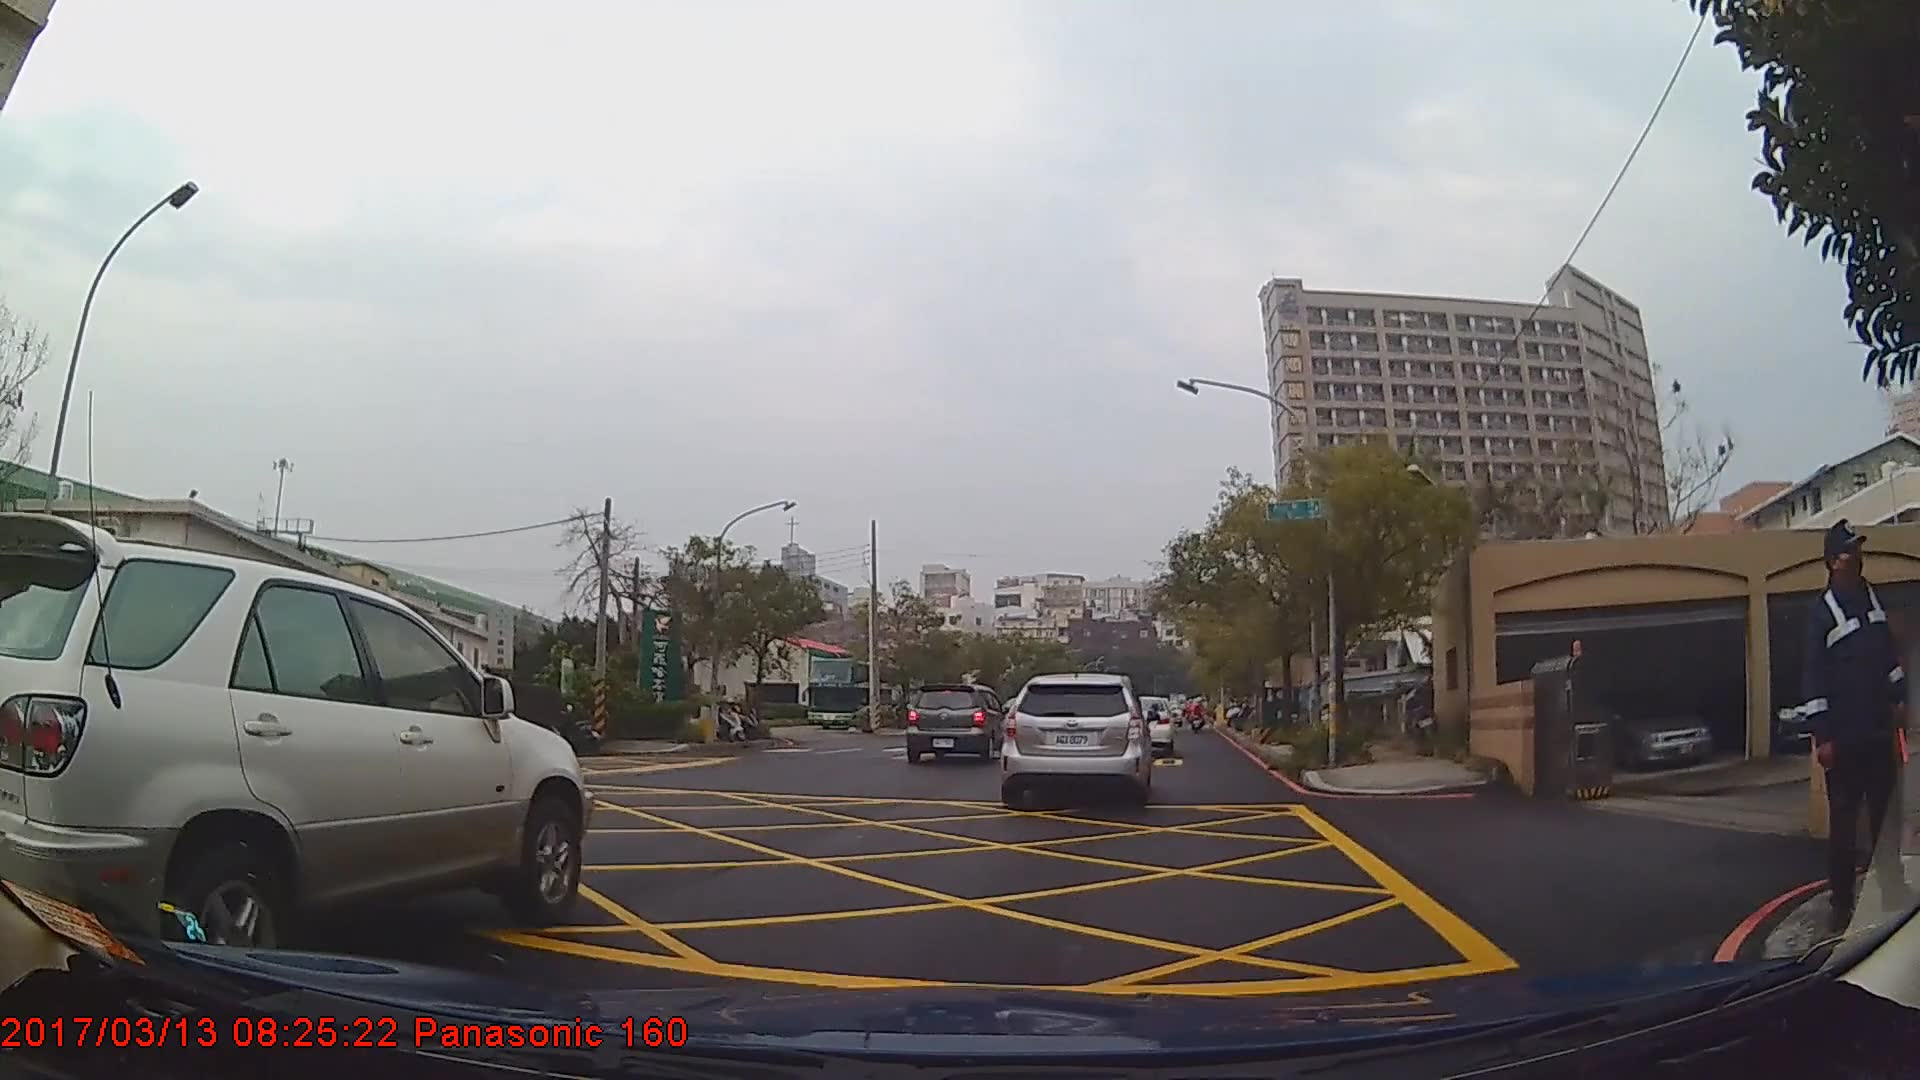pedestrian: (1798, 518, 1920, 937)
vehicle: (0, 509, 590, 987), (997, 670, 1153, 807), (1599, 684, 1720, 765), (904, 680, 1010, 763), (805, 657, 907, 732), (1114, 693, 1175, 756)
